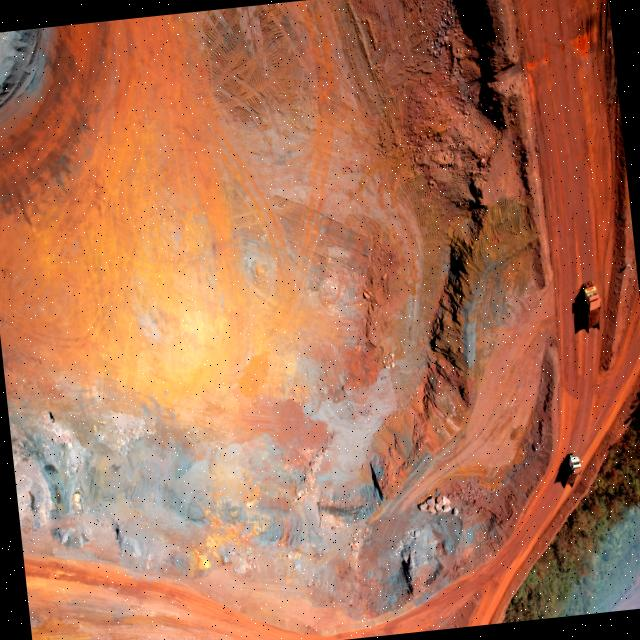Dumper truck: (579, 278, 602, 332), (558, 452, 584, 488)
